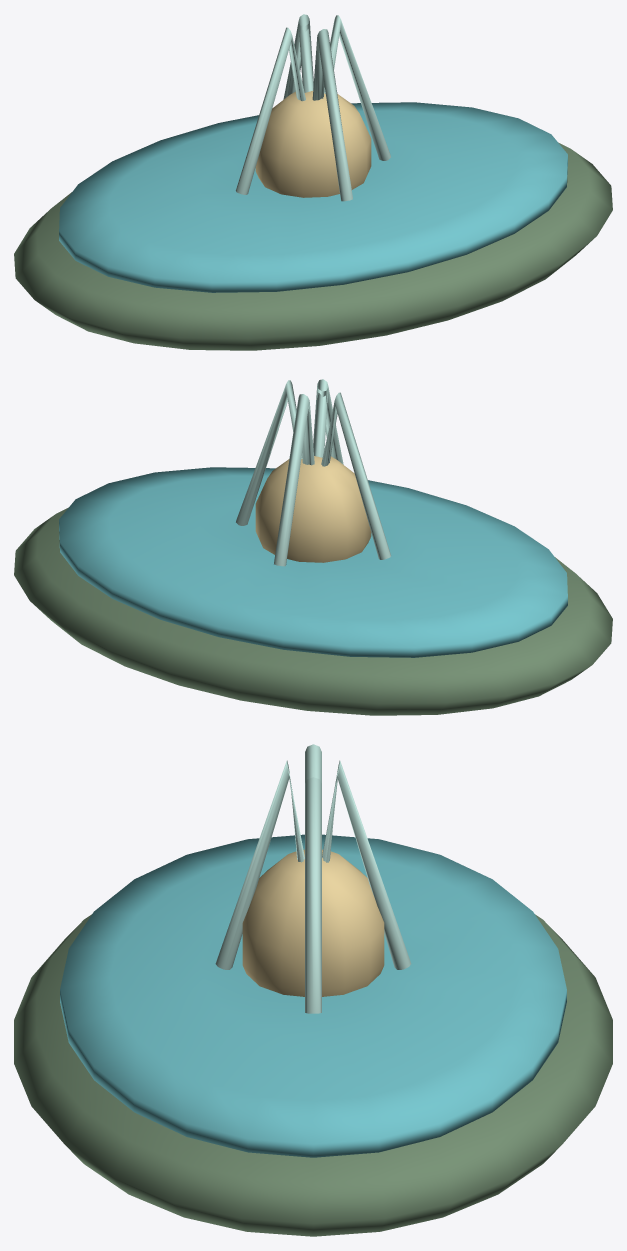
Rendered from fountain_3.glb.
3 views of the same model, one above another, from view 1: azimuth 30°, elevation 25°; view 2: azimuth 150°, elevation 25°; view 3: azimuth 270°, elevation 25° (orthographic). The views are drawn at different scales.
Parts seen in each view (by area): view 1: Fountain; view 2: Fountain; view 3: Fountain.
Boxes of the visible parts, x1,y1,x2,y2 form: Fountain: (14,14,612,350); Fountain: (14,379,612,715); Fountain: (14,744,612,1236).
Size of the model in its own units: 2.88 by 1.3 by 2.01.
